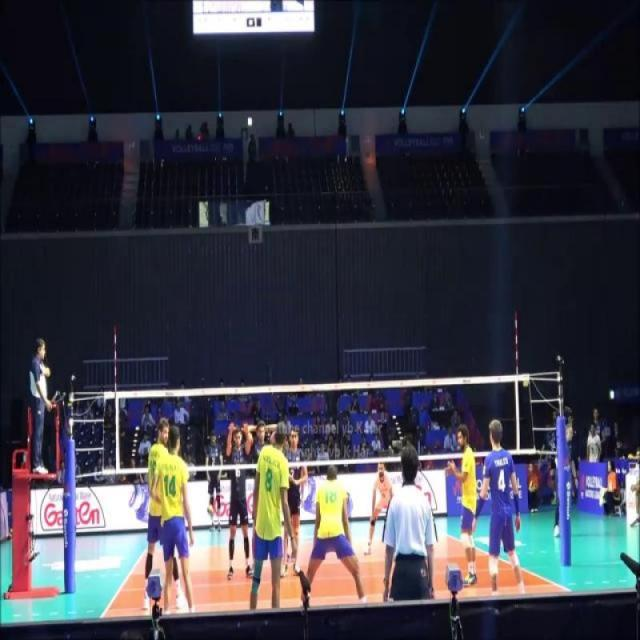volleyball: (528, 481, 536, 493), (207, 504, 214, 515), (9, 528, 13, 540)
